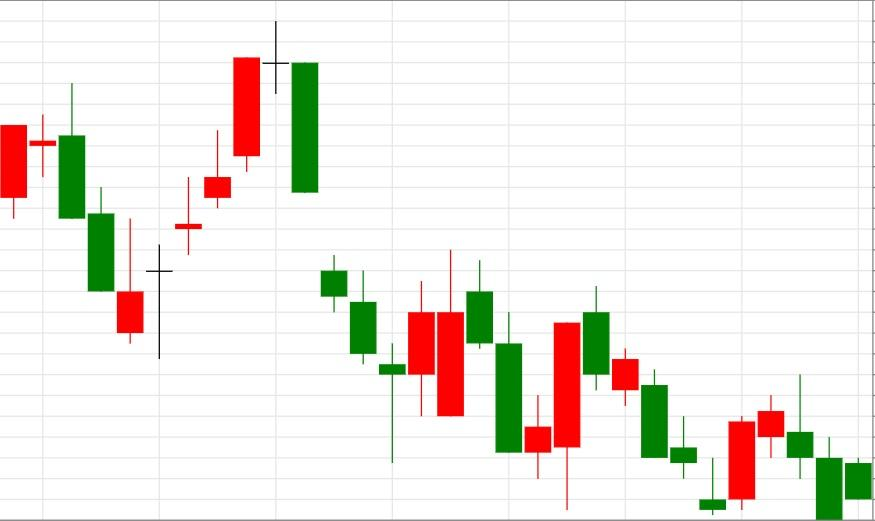evening_star_fall: (116, 21, 319, 359)
